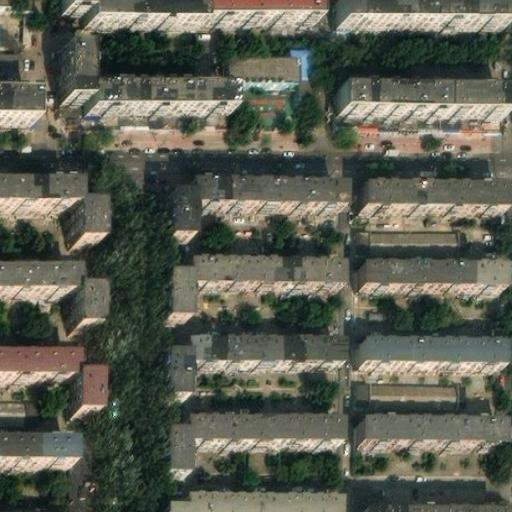building: (62, 42, 229, 110), (164, 328, 341, 388), (164, 411, 342, 468), (171, 255, 349, 311), (167, 180, 344, 221), (0, 345, 103, 405), (0, 267, 97, 324), (337, 0, 503, 25), (336, 88, 504, 112), (361, 258, 507, 285), (362, 183, 511, 209), (355, 341, 499, 367), (354, 419, 499, 444), (358, 383, 458, 415), (165, 497, 342, 512), (375, 229, 463, 253), (230, 49, 301, 75), (0, 441, 70, 466), (405, 500, 502, 512), (0, 86, 32, 116), (290, 41, 312, 71), (356, 498, 401, 512)
